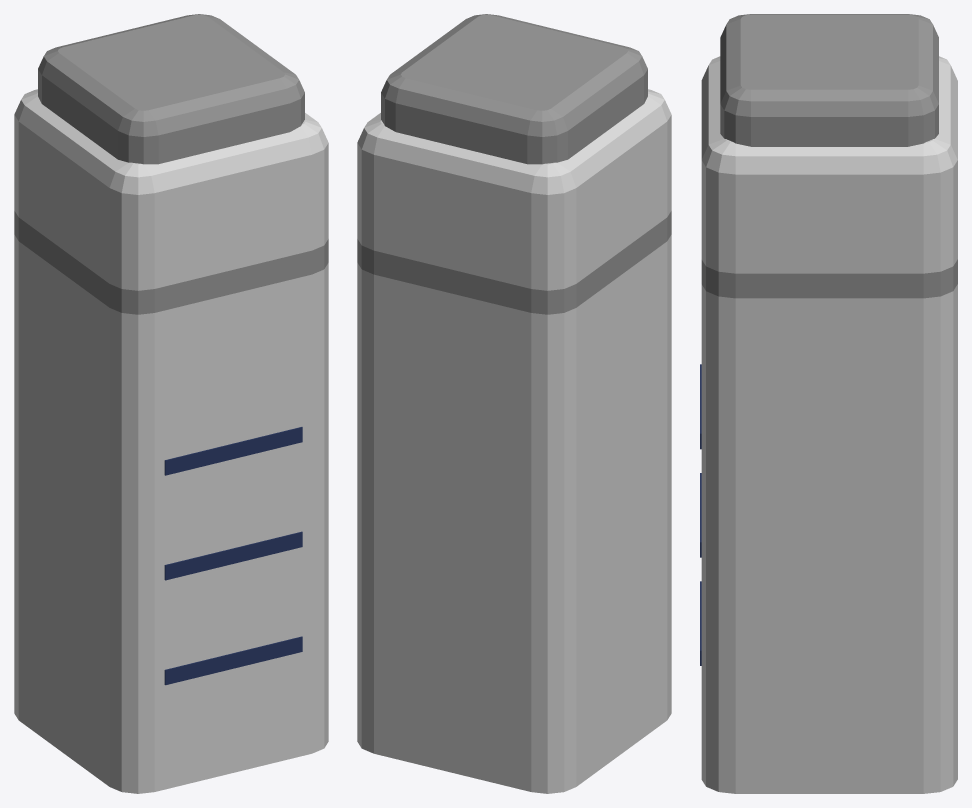
File: tower_setback.obj
3 renders of one model, left to right at view 1: azimuth 30°, elevation 25°; view 2: azimuth 150°, elevation 25°; view 3: azimuth 270°, elevation 25°, orthographic. The views are drawn at different scales.
Bounding box in the file's own units: 15 × 44.4 × 15.08.
